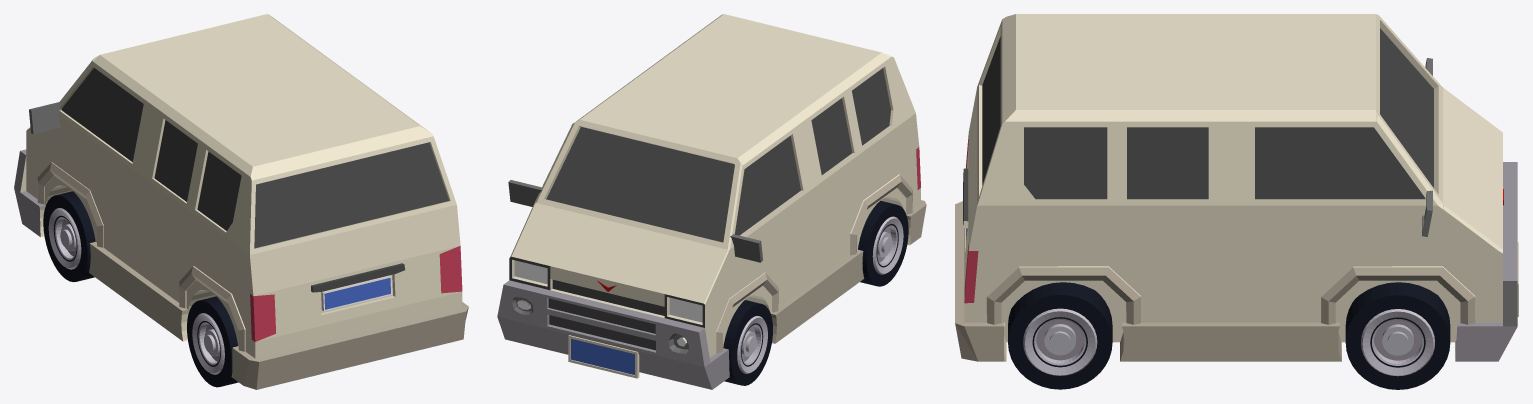
File: panamera.fbx
3 renders of one model, left to right at view 1: azimuth 30°, elevation 25°; view 2: azimuth 150°, elevation 25°; view 3: azimuth 270°, elevation 25°, orthographic. The views are drawn at different scales.
Visible parts, largest first — view 1: 空白_1; view 2: 空白_1; view 3: 空白_1.
Part boxes in pixels (bbox=[...]): 空白_1: bbox=[14, 14, 468, 389]; 空白_1: bbox=[497, 14, 926, 389]; 空白_1: bbox=[955, 14, 1518, 389].
Bounding box in the file's own units: 300 × 243 × 469.
